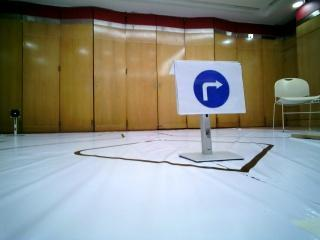right: (176, 62, 244, 112)
